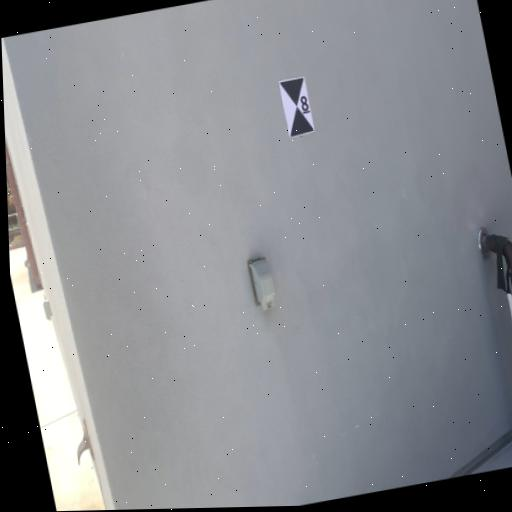target8: (277, 75, 314, 138)
